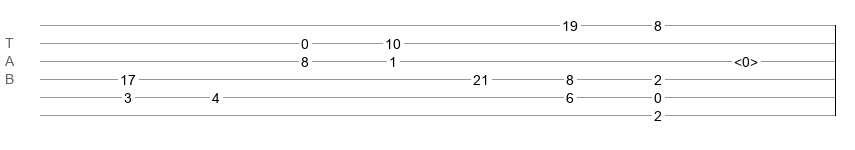0: (301, 36, 309, 46), (654, 90, 662, 100)
1: (389, 54, 397, 64)
10: (385, 36, 401, 46)
17: (120, 72, 136, 82)
19: (562, 18, 578, 28)
2: (654, 72, 662, 82), (654, 108, 662, 118)
21: (473, 72, 489, 82)
3: (124, 90, 132, 100)
4: (212, 90, 220, 100)
6: (566, 90, 574, 100)
8: (301, 54, 309, 64), (566, 72, 574, 82), (654, 18, 662, 28)
harmonic: (734, 54, 758, 64)
